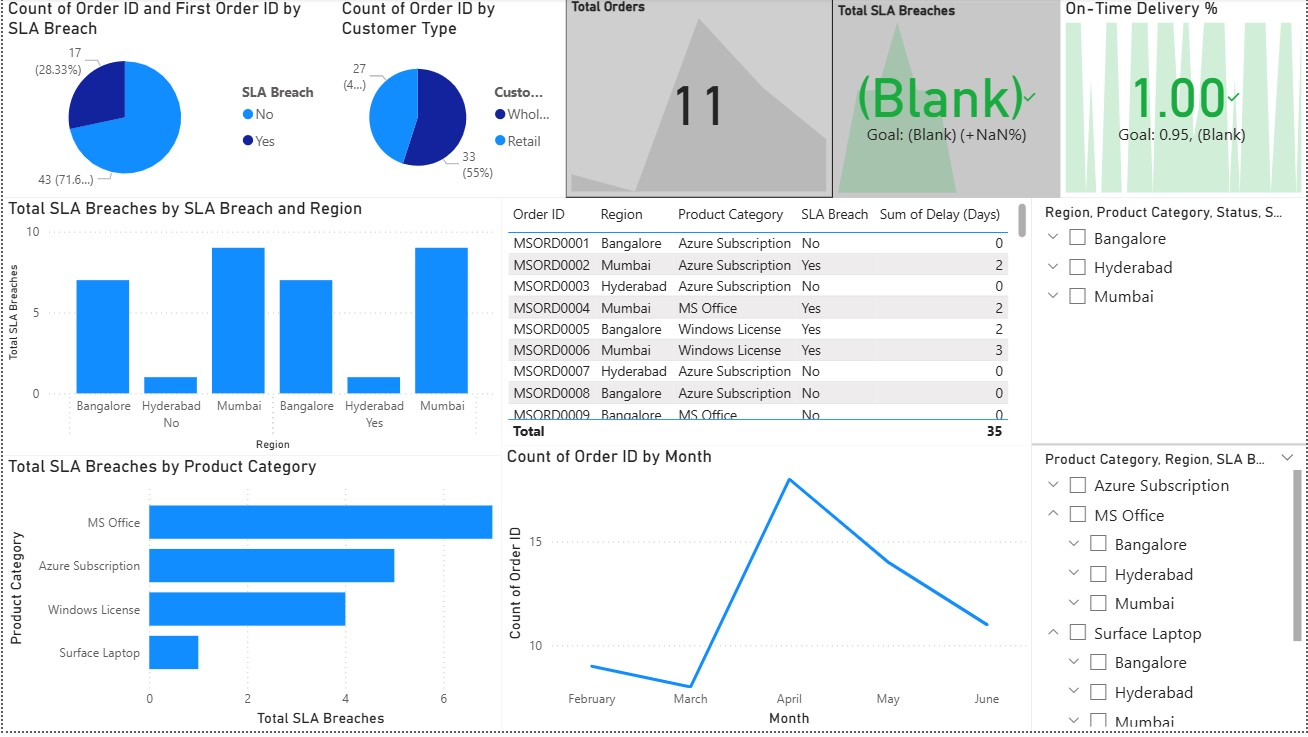

The page's visual inventory and layout, read from the dashboard file:
{"tool":"powerbi","page":{"name":"Page 1","canvas":[1280,720],"ordinal":0},"visuals":[{"type":"pieChart","fields":{"Category":["Sheet1.SLA Breach"],"Y":["CountNonNull(Sheet1.Order ID)"]},"box":[0,0,327.6,196.3],"z":0},{"type":"kpi","title":"Total Orders","fields":{"TrendLine":["Sheet1.Order Date.Variation.Date Hierarchy.Month"],"Indicator":["Sheet1.Total Orders"]},"box":[552.2,0,262.6,196.3],"z":1000},{"type":"kpi","title":"Total SLA Breaches","fields":{"Indicator":["Sheet1.Total SLA Breaches"],"TrendLine":["Sheet1.Order Date.Variation.Date Hierarchy.Month"],"Goal":["Min(Sheet1.Order Date.Variation.Date Hierarchy.Month)"]},"box":[814.7,4.9,223.3,191.4],"z":2000},{"type":"clusteredColumnChart","fields":{"Category":["Sheet1.SLA Breach","Sheet1.Region"],"Y":["Sheet1.Total SLA Breaches"]},"box":[0,196.3,489.6,252.8],"z":3000},{"type":"barChart","fields":{"Category":["Sheet1.Product Category"],"Y":["Sheet1.Total SLA Breaches"]},"box":[0,449.1,489.6,271.2],"z":4000},{"type":"lineChart","fields":{"Category":["Sheet1.Order Date.Variation.Date Hierarchy.Month"],"Y":["CountNonNull(Sheet1.Order ID)"]},"box":[489.6,439.3,520.2,281],"z":5000},{"type":"pieChart","fields":{"Category":["Sheet1.Customer Type"],"Y":["CountNonNull(Sheet1.Order ID)"]},"box":[327.6,0,224.5,196.3],"z":6000},{"type":"tableEx","fields":{"Values":["Sheet1.Order ID","Sheet1.Region","Sheet1.Product Category","Sheet1.SLA Breach","Sum(Sheet1.Delay (Days))"]},"box":[489.6,196.3,520.2,242.9],"z":7000},{"type":"slicer","fields":{"Values":["Sheet1.Region","Sheet1.Product Category","Sheet1.Status","Sheet1.SLA Breach"]},"box":[1009.8,196.3,269.9,240.5],"z":8000},{"type":"slicer","fields":{"Values":["Sheet1.Product Category","Sheet1.Region","Sheet1.SLA Breach","Sheet1.Status","Sheet1.Customer Type"]},"box":[1009.8,439.3,269.9,281],"z":9000},{"type":"kpi","title":"On-Time Delivery %","fields":{"Indicator":["Sheet1.On Time Delivery %"],"TrendLine":["Sheet1.Order Date"],"Goal":["Sheet1.Target On Time %","Min(Sheet1.Order Date.Variation.Date Hierarchy.Month)"]},"box":[1038,0,241.7,196.3],"z":10000}]}

Visuals, with their boxes in screenshot pixels (x1, y1, x2, y2), scaled from the page's 1280x720 canvas onto the 1308x737 screenshot:
pieChart - Sheet1.SLA Breach x CountNonNull(Sheet1.Order ID): x1=0 y1=0 x2=335 y2=201
"Total Orders" kpi: x1=564 y1=0 x2=833 y2=201
"Total SLA Breaches" kpi: x1=833 y1=5 x2=1061 y2=201
clusteredColumnChart - Sheet1.SLA Breach x Sheet1.Region: x1=0 y1=201 x2=500 y2=460
barChart - Sheet1.Product Category x Sheet1.Total SLA Breaches: x1=0 y1=460 x2=500 y2=736
lineChart - Sheet1.Order Date.Variation.Date Hierarchy.Month x CountNonNull(Sheet1.Order ID): x1=500 y1=450 x2=1032 y2=736
pieChart - Sheet1.Customer Type x CountNonNull(Sheet1.Order ID): x1=335 y1=0 x2=564 y2=201
tableEx - Sheet1.Order ID x Sheet1.Region: x1=500 y1=201 x2=1032 y2=450
slicer - Sheet1.Region x Sheet1.Product Category: x1=1032 y1=201 x2=1307 y2=447
slicer - Sheet1.Product Category x Sheet1.Region: x1=1032 y1=450 x2=1307 y2=736
"On-Time Delivery %" kpi: x1=1061 y1=0 x2=1307 y2=201
